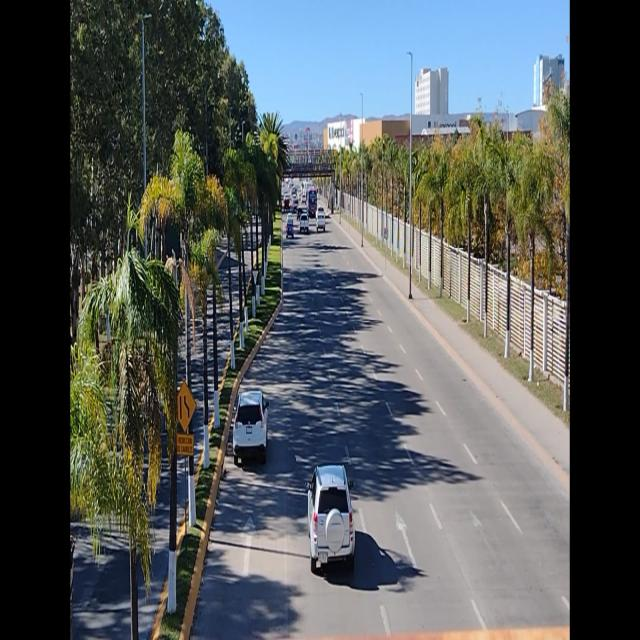Auto: (304, 456, 358, 574), (235, 381, 268, 469), (299, 210, 311, 232)
